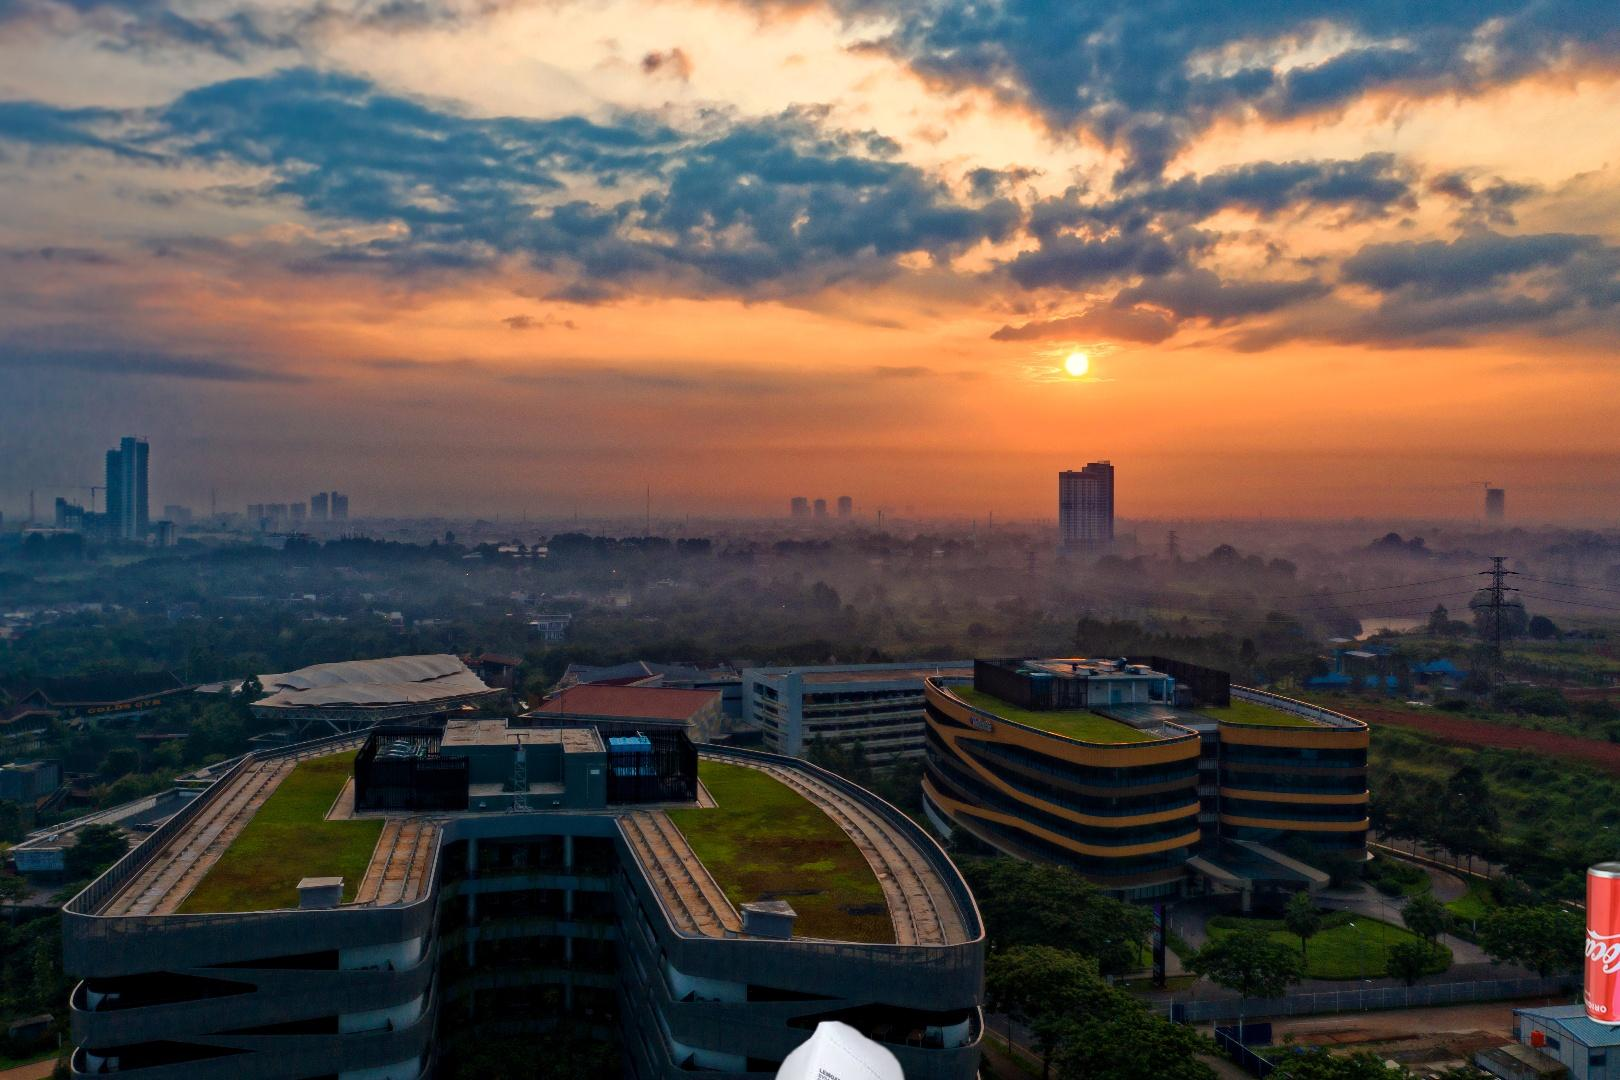metal-cans: (1579, 855, 1620, 1033)
trash: (763, 1008, 965, 1080)
